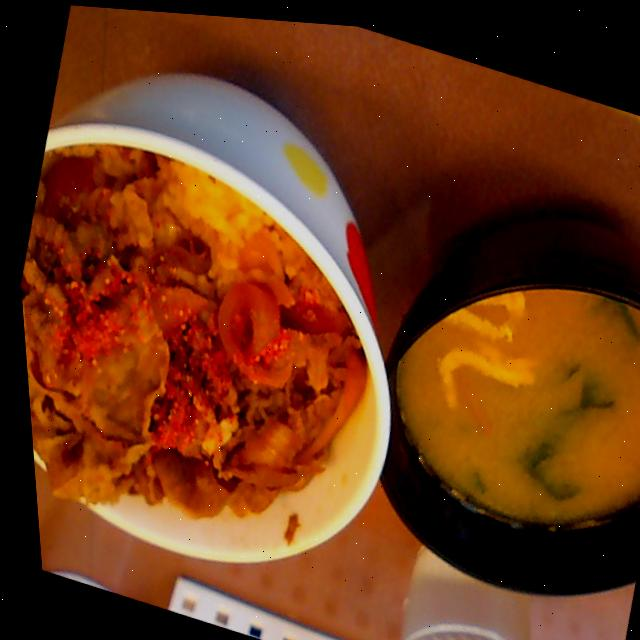汤锅炖物: (318, 153, 640, 624)
